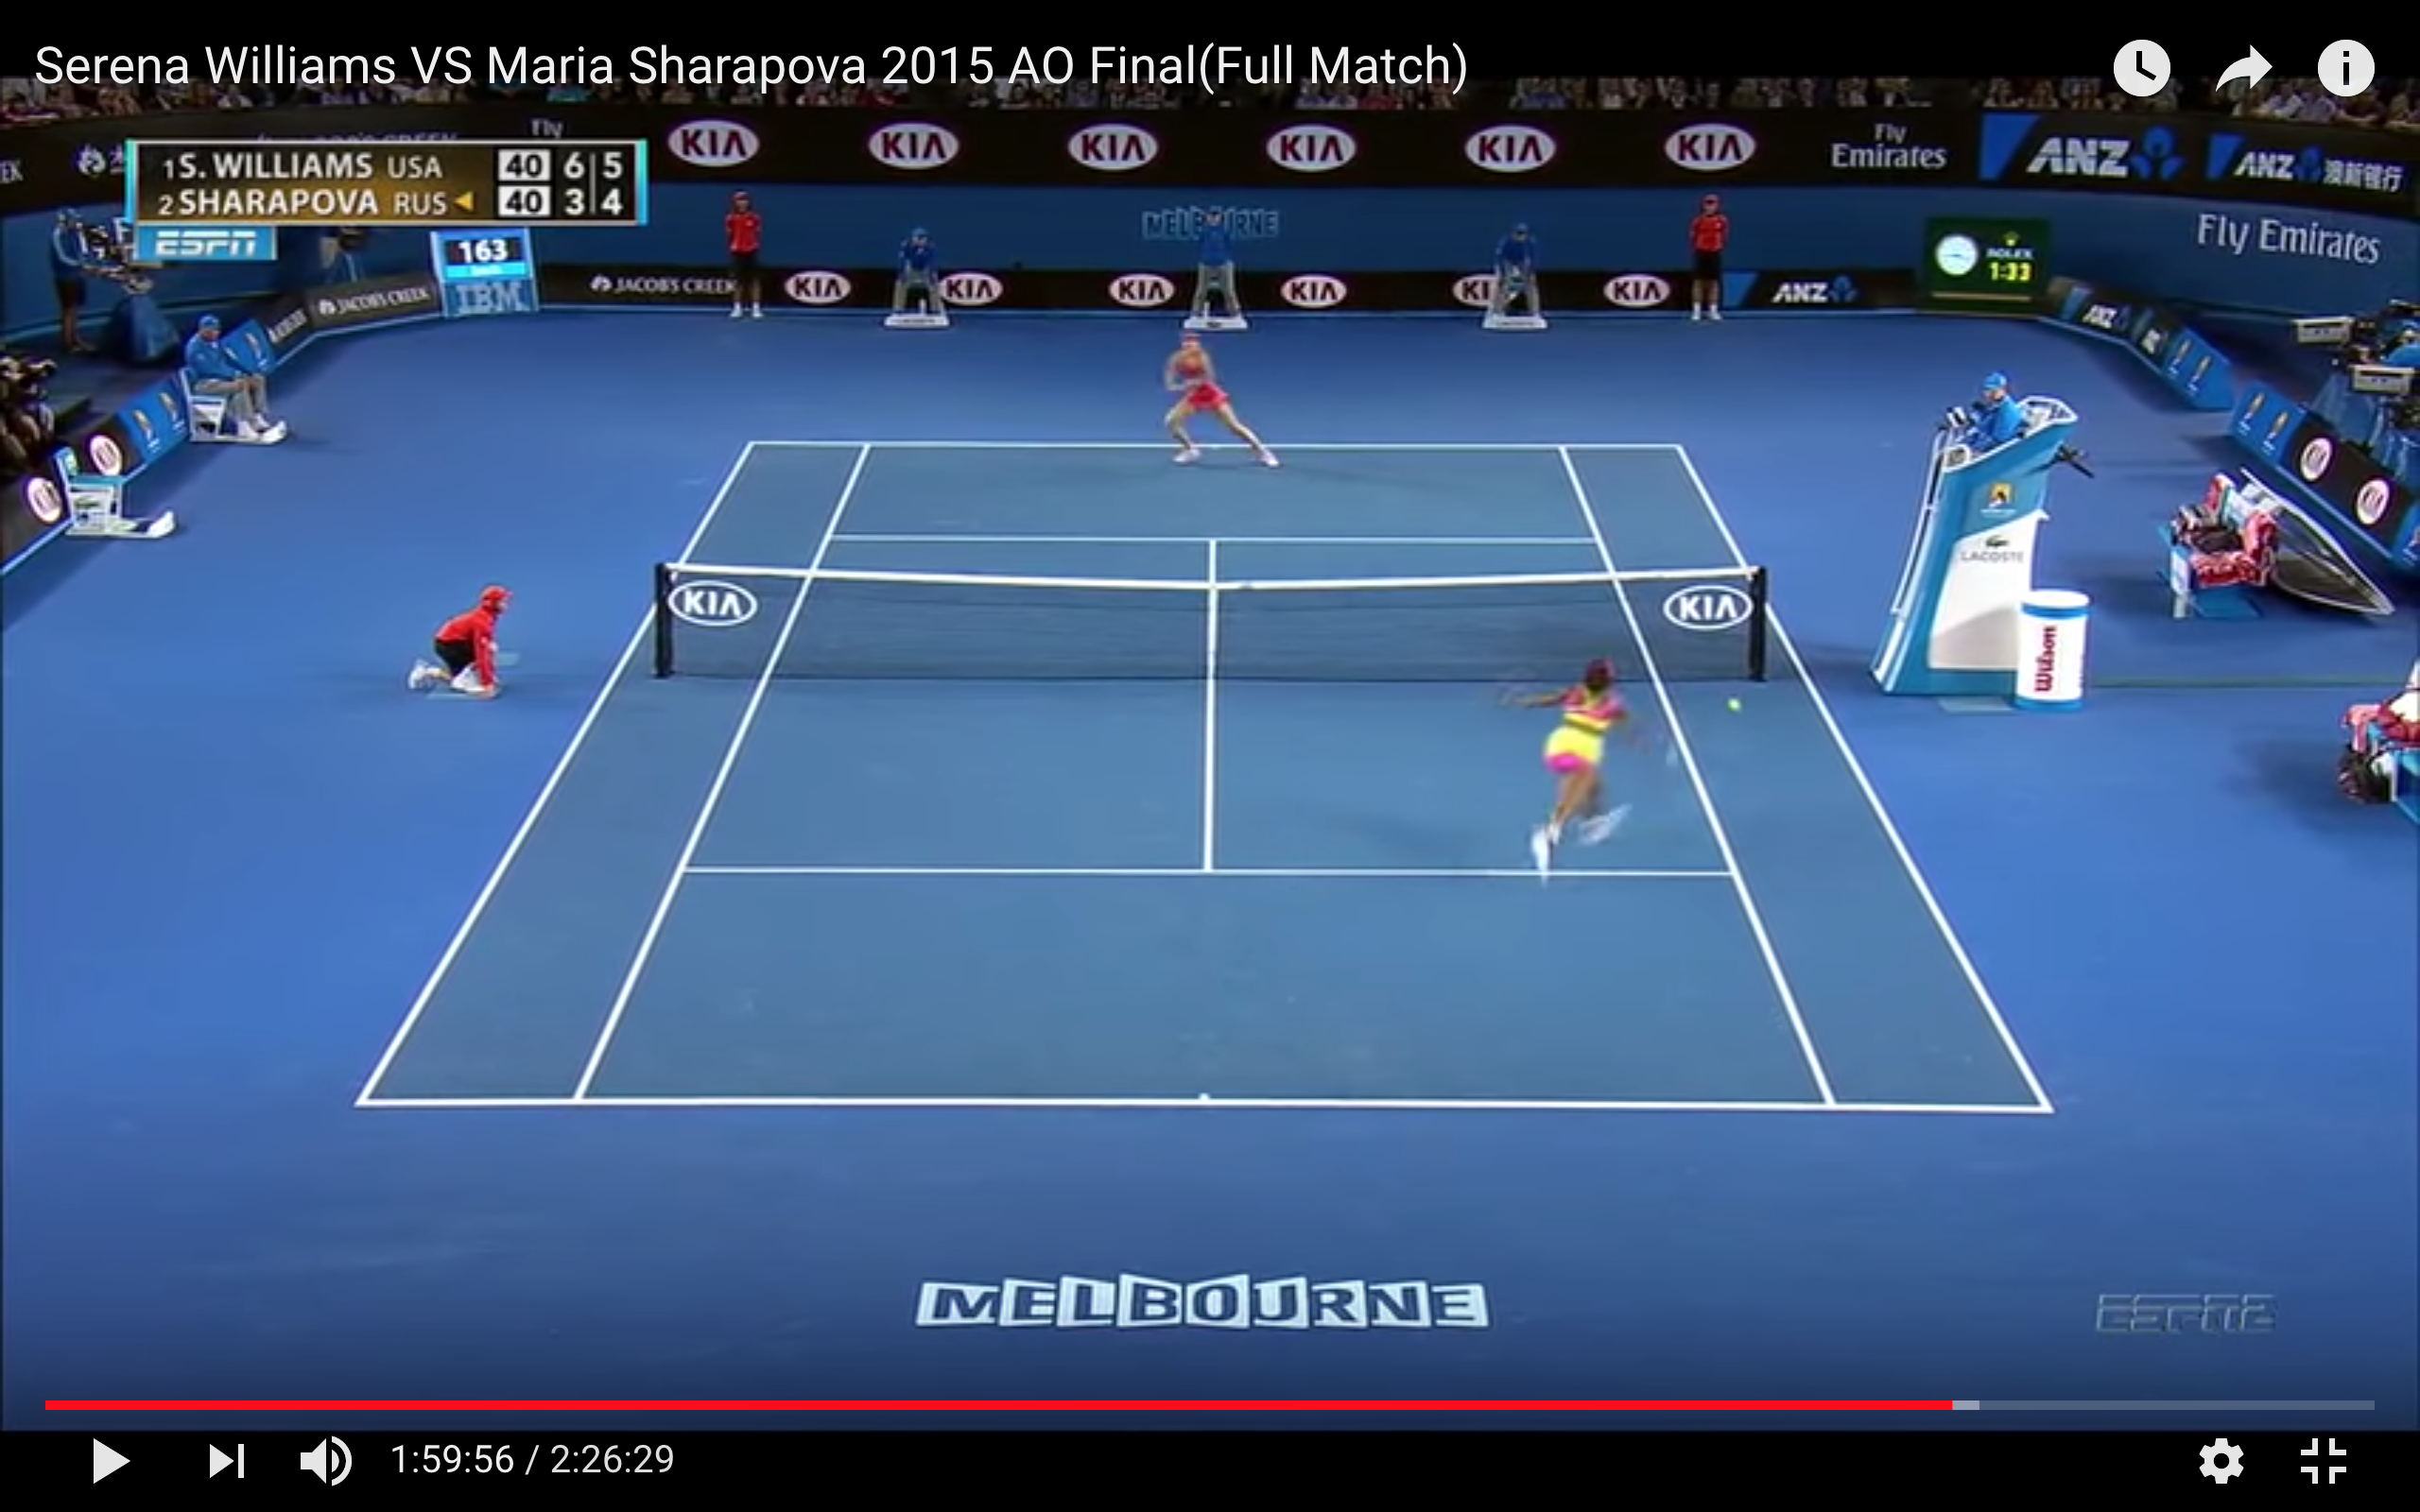tennis ball: (1722, 695, 1750, 720)
tennis player: (1492, 644, 1682, 886), (1156, 326, 1282, 478)
